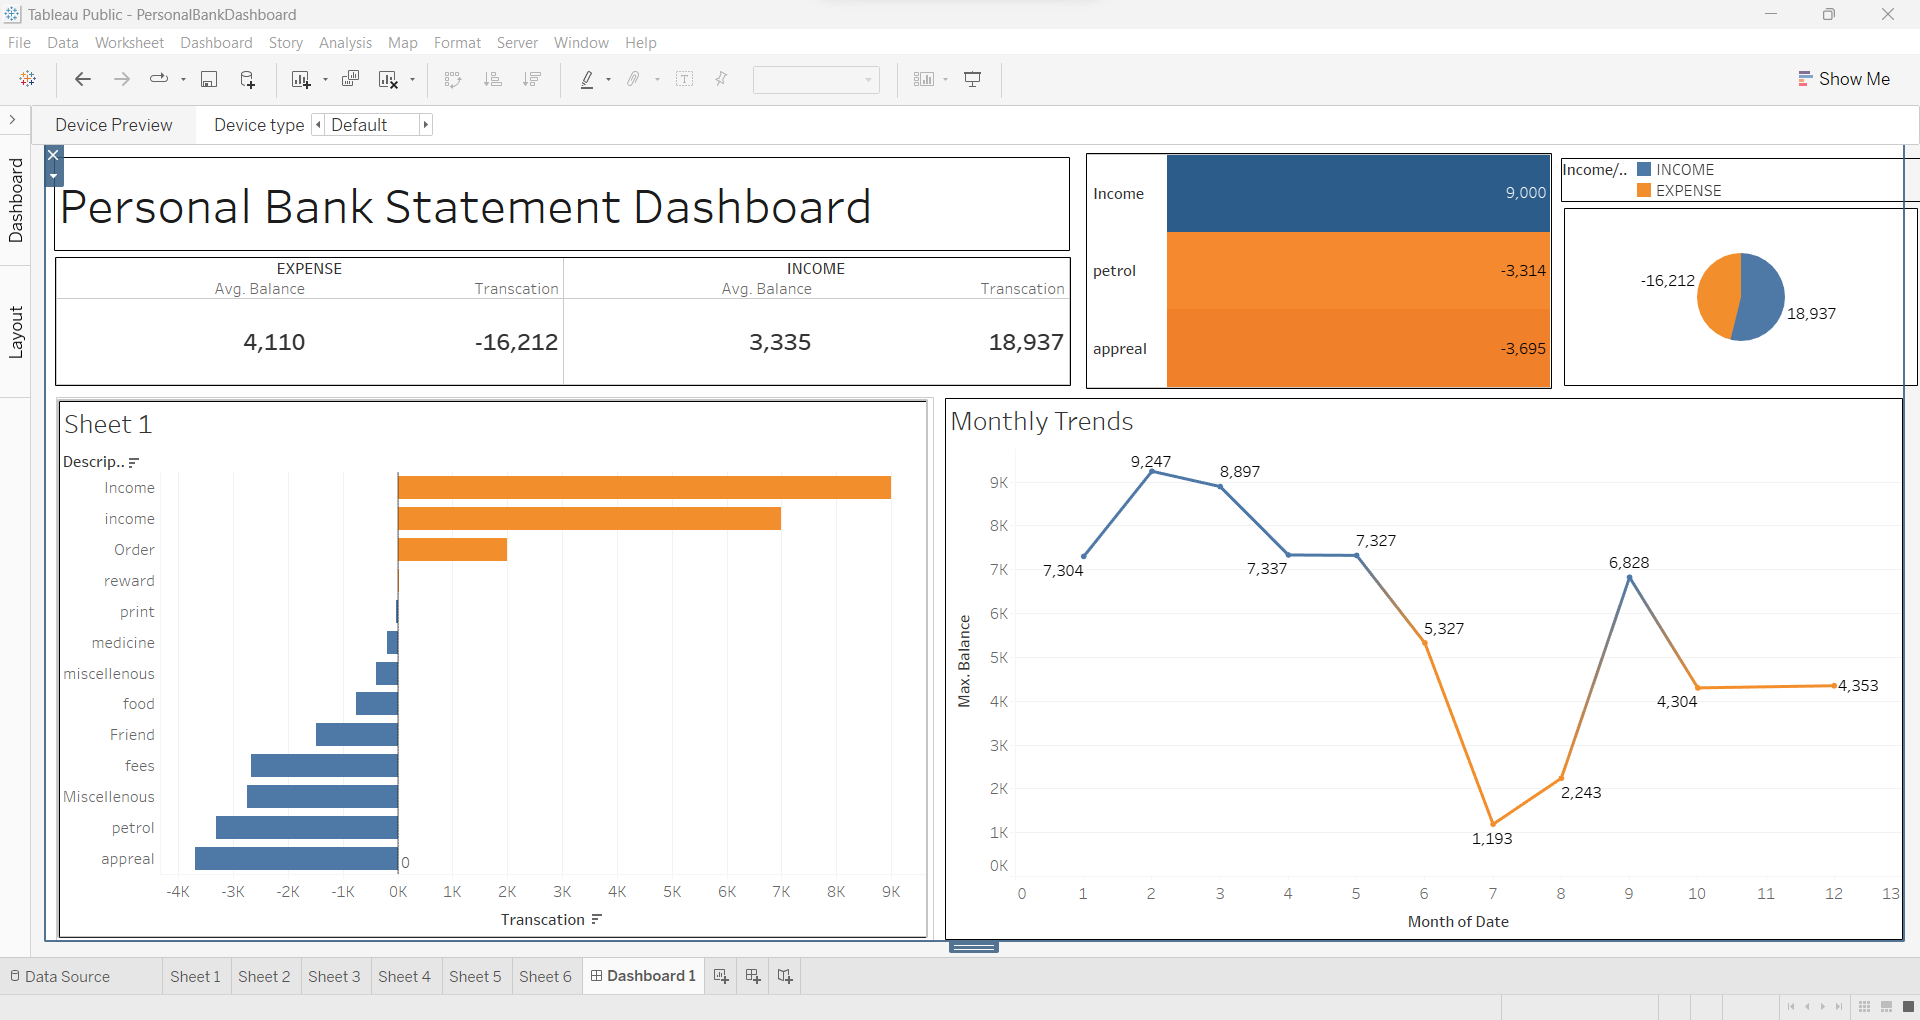

What the dashboard file says about the page in this screenshot:
{"tool":"tableau","page":{"name":"Dashboard 1","canvas":[1000,1000],"units":"permille","ordinal":0},"visuals":[{"type":"worksheet","title":"Sheet 5","mark":"Square","rows":["Description"],"box":[559.6,10,250.6,296.1]},{"type":"text","box":[4.3,15.1,546.7,117.9]},{"type":"worksheet","title":"Sheet 2","mark":"Automatic","cols":["Income/Expense"],"box":[4.9,140.5,546.7,161.9]},{"type":"worksheet","title":"Sheet 3","mark":"Automatic","rows":["Balance"],"cols":["Date"],"box":[483.4,317.4,515.4,680.1]},{"type":"worksheet","title":"Sheet 1","mark":"Automatic","rows":["Description"],"cols":["Transcation"],"box":[6.8,321.2,466.8,673.8]}]}

Visuals, with their boxes on the dashboard's canvas, which has no fixed pixel size, in thousandths of its width and height (x1, y1, x2, y2). These are canvas units, not pixel positions in the 1920x1020 screenshot, which may show the page scaled, cropped or inside an application window:
"Sheet 5" worksheet (Square marks): crop(560, 10, 810, 306)
text: crop(4, 15, 551, 133)
"Sheet 2" worksheet: crop(5, 140, 552, 302)
"Sheet 3" worksheet: crop(483, 317, 999, 998)
"Sheet 1" worksheet: crop(7, 321, 474, 995)
